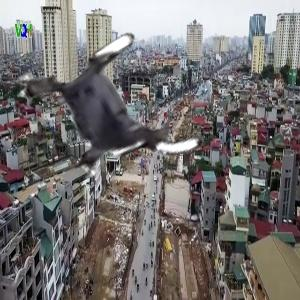drone: (24, 27, 196, 199)
